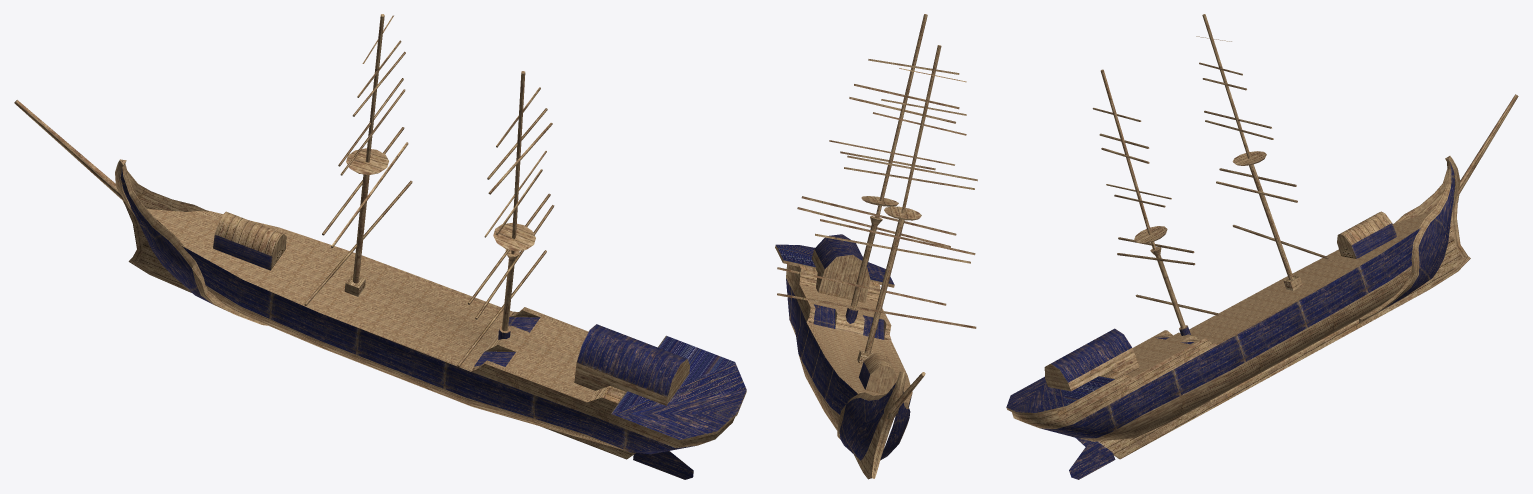
Rendered from o_mdl_env_propLargeShipBrokenA_c-transformed.glb.
3 renders of one model, left to right at view 1: azimuth 30°, elevation 25°; view 2: azimuth 150°, elevation 25°; view 3: azimuth 270°, elevation 25°, orthographic. The views are drawn at different scales.
Parts seen in each view (by area): view 1: default; view 2: default; view 3: default.
Part boxes in pixels (bbox=[...]): default: bbox=[14, 14, 746, 479]; default: bbox=[775, 14, 977, 479]; default: bbox=[1006, 14, 1518, 479].
Size of the model in its own units: 75.37 by 75.04 by 92.57.
Materials: 2 (2 with a texture image).
